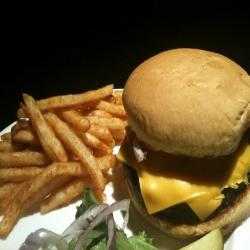burger: (109, 43, 249, 242)
fries: (2, 78, 126, 215)
salad: (42, 207, 158, 250)
